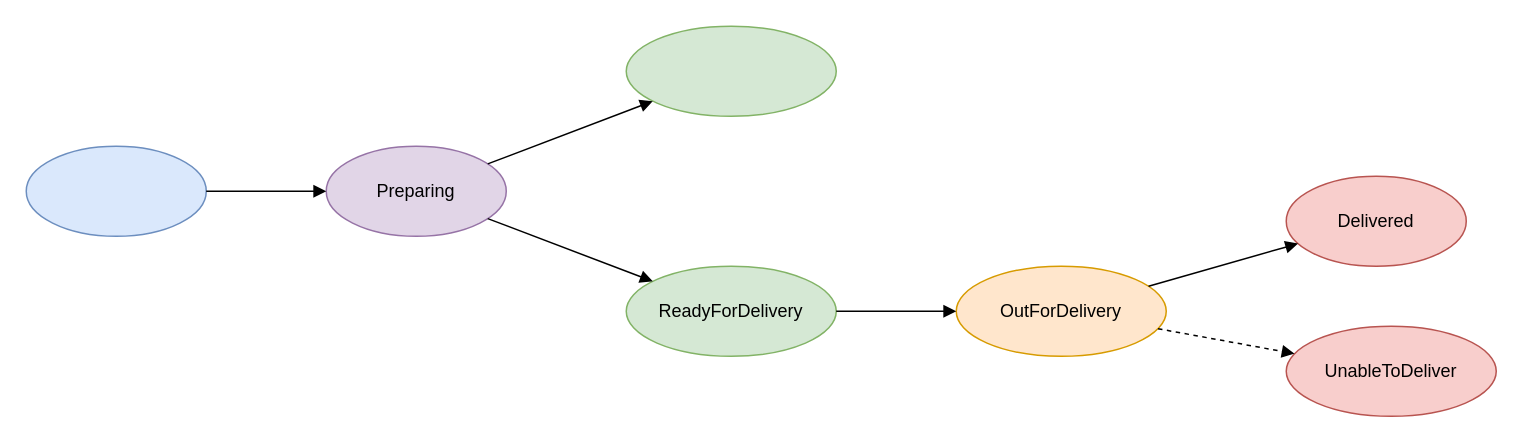
This 1523x443 diagram has some shape labels left out. Each missing label, with the box of its shape:
Pending: (25, 145, 206, 236)
ReadyForPickup: (625, 25, 836, 116)
